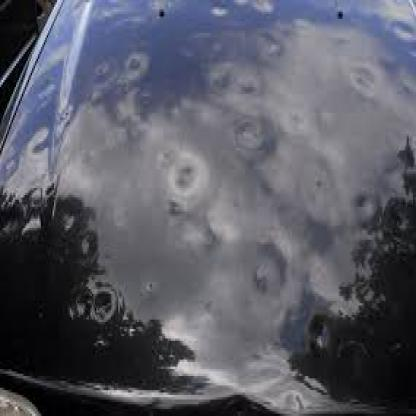dent: (156, 140, 218, 204), (256, 223, 288, 306), (88, 262, 120, 333), (228, 112, 268, 162), (346, 58, 384, 110), (346, 181, 379, 233), (118, 48, 156, 88), (136, 266, 163, 310), (88, 62, 110, 93)
